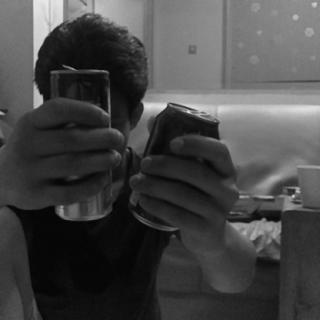alumunium_can: (129, 104, 219, 233), (49, 62, 117, 223)
